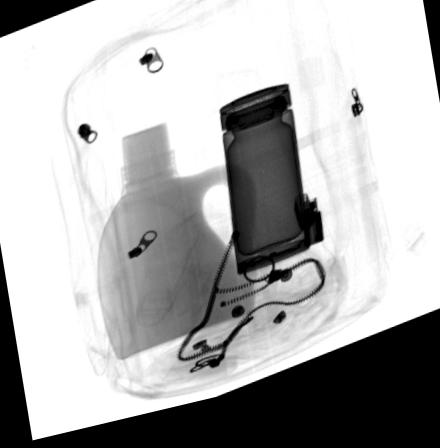Lighter: (292, 205, 324, 262)
